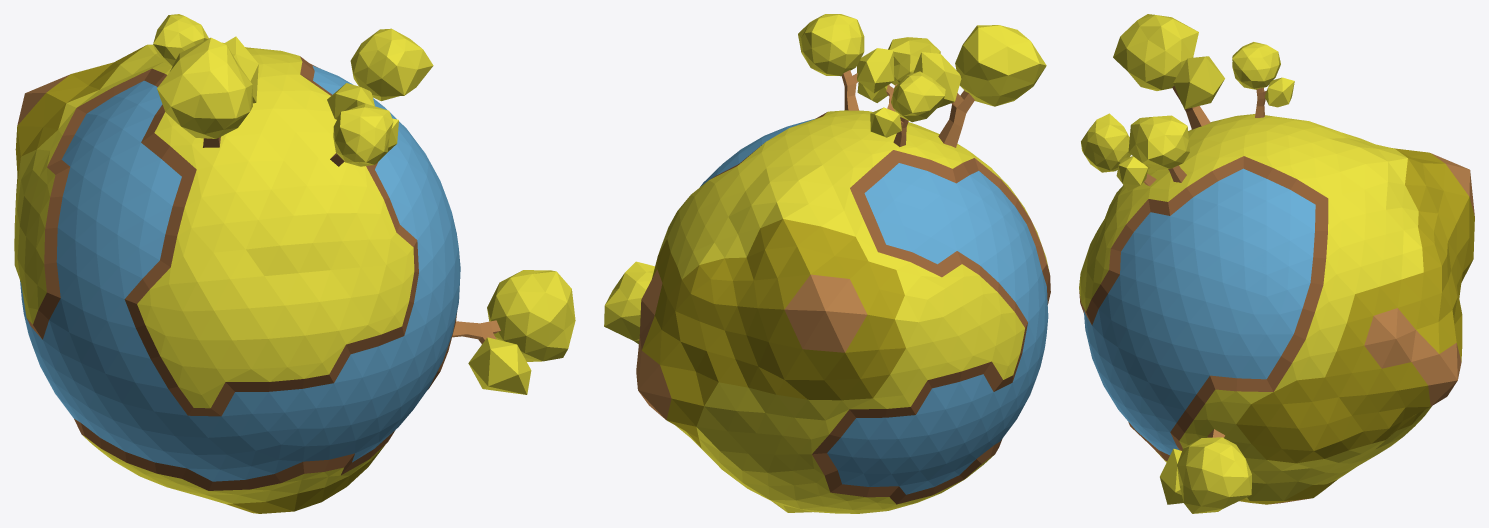
The model's file is planet.fbx.
3 renders of one model, left to right at view 1: azimuth 30°, elevation 25°; view 2: azimuth 150°, elevation 25°; view 3: azimuth 270°, elevation 25°, orthographic. The views are drawn at different scales.
Parts seen in each view (by area): view 1: Icosphere, BigLeaves.003, BigLeaves.004, BigLeaves, BigLeaves.001, SmallLeaves.004, BigLeaves.002, SmallLeaves, SmallLeaves.003, Trunk.004; view 2: Icosphere, BigLeaves.003, BigLeaves, BigLeaves.004, BigLeaves.002, SmallLeaves, SmallLeaves.003, BigLeaves.001, Trunk.003, SmallLeaves.002, Trunk; view 3: Icosphere, BigLeaves.004, BigLeaves.003, BigLeaves, BigLeaves.001, SmallLeaves.003, BigLeaves.002, SmallLeaves.004, SmallLeaves.001, SmallLeaves.002.
Boxes of the visible parts, x1,y1,x2,y2 form: Icosphere: (14,42,460,513); BigLeaves.003: (157,37,252,138); BigLeaves.004: (487,270,575,361); BigLeaves: (350,28,433,101); BigLeaves.001: (333,103,393,166); SmallLeaves.004: (468,337,531,394); BigLeaves.002: (153,14,208,66); SmallLeaves: (327,83,374,119); SmallLeaves.003: (224,36,258,103); Trunk.004: (452,320,500,343); Icosphere: (636,110,1050,513); BigLeaves.003: (955,25,1046,106); BigLeaves: (798,14,864,76); BigLeaves.004: (604,261,654,344); BigLeaves.002: (891,71,945,122); SmallLeaves: (857,48,894,93); SmallLeaves.003: (913,52,961,108); BigLeaves.001: (888,37,940,85); Trunk.003: (938,90,974,147); SmallLeaves.002: (870,107,901,137); Trunk: (841,70,859,110); Icosphere: (1079,114,1474,504); BigLeaves.004: (1177,437,1251,513); BigLeaves.003: (1113,14,1198,90); BigLeaves: (1128,115,1189,169); BigLeaves.001: (1081,113,1130,172); SmallLeaves.003: (1173,56,1224,109); BigLeaves.002: (1232,42,1280,89); SmallLeaves.004: (1160,448,1183,504); SmallLeaves.001: (1116,156,1147,190); SmallLeaves.002: (1264,77,1294,107).
Bounding box in the file's own units: 1393 × 1403 × 1165.
